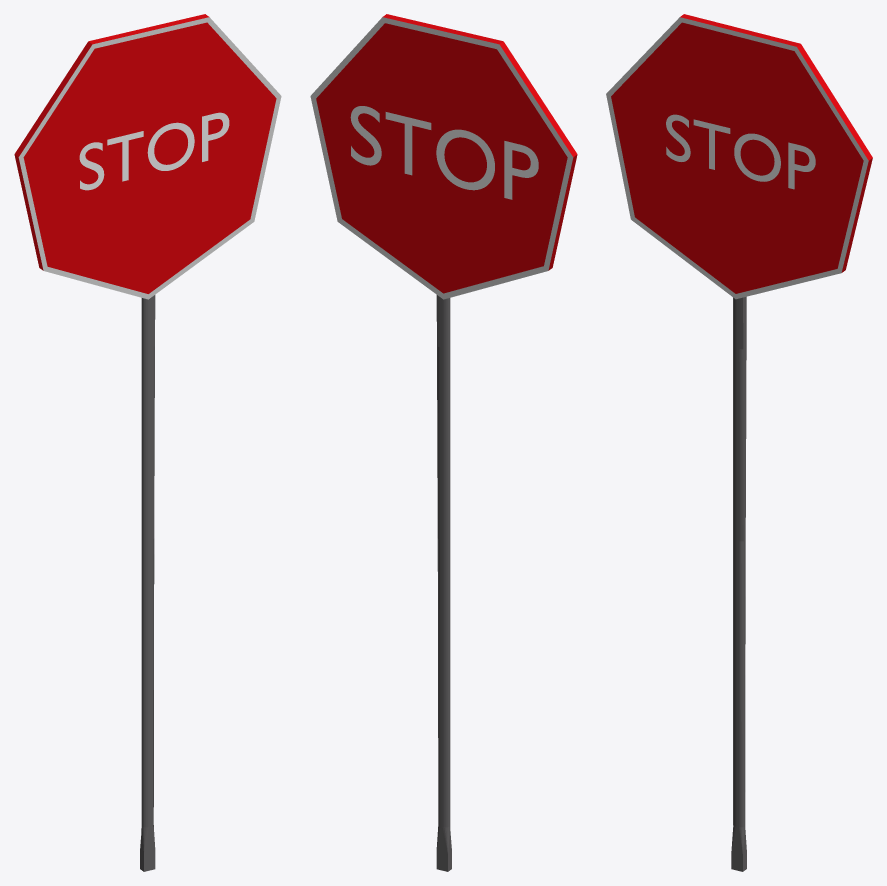
Rendered from Znak stop.fbx.
3 renders of one model, left to right at view 1: azimuth 30°, elevation 25°; view 2: azimuth 150°, elevation 25°; view 3: azimuth 330°, elevation 25°, orthographic.
Visible parts, largest first — view 1: Cylinder, Cube, Text; view 2: Cylinder, Cube, Text.001; view 3: Cylinder, Cube, Text.
Boxes of the visible parts, left/top/right/bottom form: Cylinder: left=14, top=14, right=281, bottom=299; Cube: left=140, top=295, right=155, bottom=871; Text: left=79, top=112, right=229, bottom=190; Cylinder: left=310, top=14, right=577, bottom=299; Cube: left=436, top=295, right=451, bottom=871; Text.001: left=350, top=106, right=538, bottom=199; Cylinder: left=606, top=14, right=872, bottom=299; Cube: left=731, top=296, right=746, bottom=871; Text: left=666, top=114, right=815, bottom=189.
Size of the model in its own units: 73.34 by 224 by 2.44.
